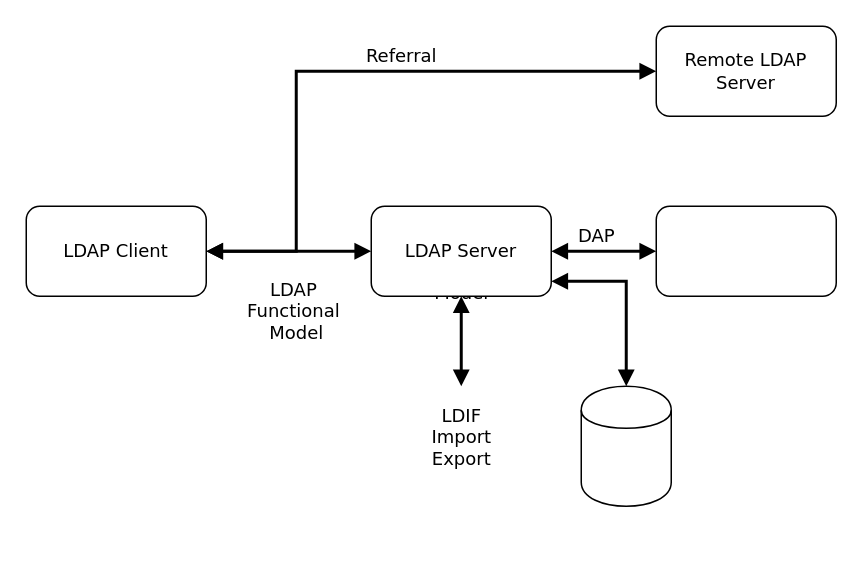
The diagram is 863 pixels wide and 587 high, and some of its shapes have lost their labels. Each missing label, with the box of its shape:
Back-End Database: (580, 385, 671, 506)
X.500 DSA: (655, 205, 836, 296)
